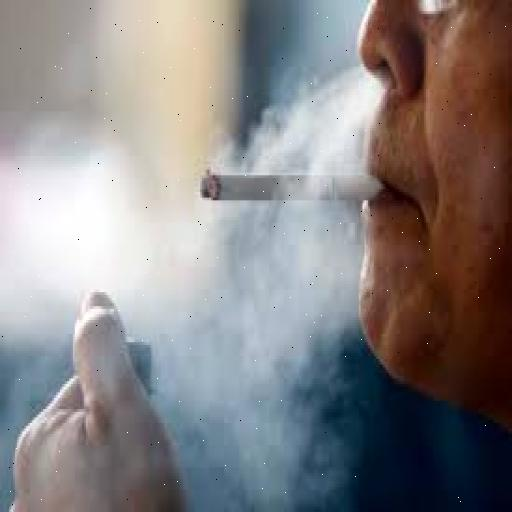smoke: (163, 117, 368, 442)
